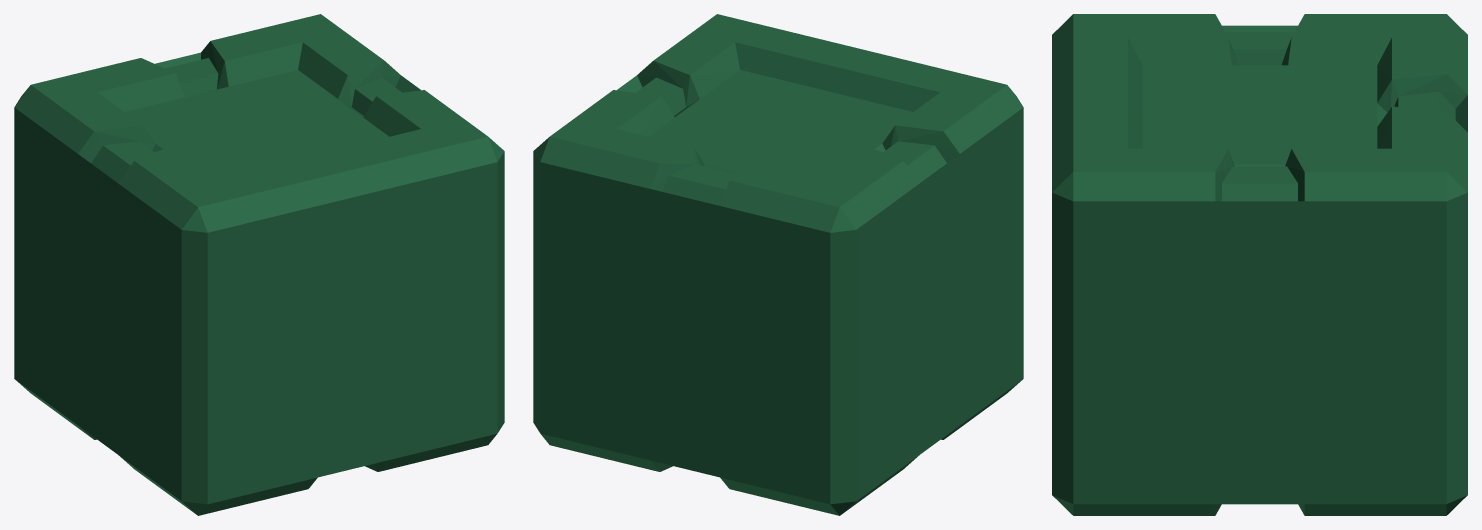
3 renders of one model, left to right at view 1: azimuth 30°, elevation 25°; view 2: azimuth 150°, elevation 25°; view 3: azimuth 270°, elevation 25°, orthographic. The views are drawn at different scales.
Parts seen in each view (by area): view 1: 002_Cube_003; view 2: 002_Cube_003; view 3: 002_Cube_003.
Boxes of the visible parts, x1=… form: 002_Cube_003: x1=14, y1=14, x2=504, y2=515; 002_Cube_003: x1=533, y1=14, x2=1023, y2=515; 002_Cube_003: x1=1052, y1=14, x2=1467, y2=515.
Bounding box in the file's own units: 29.14 × 26.61 × 29.14.
